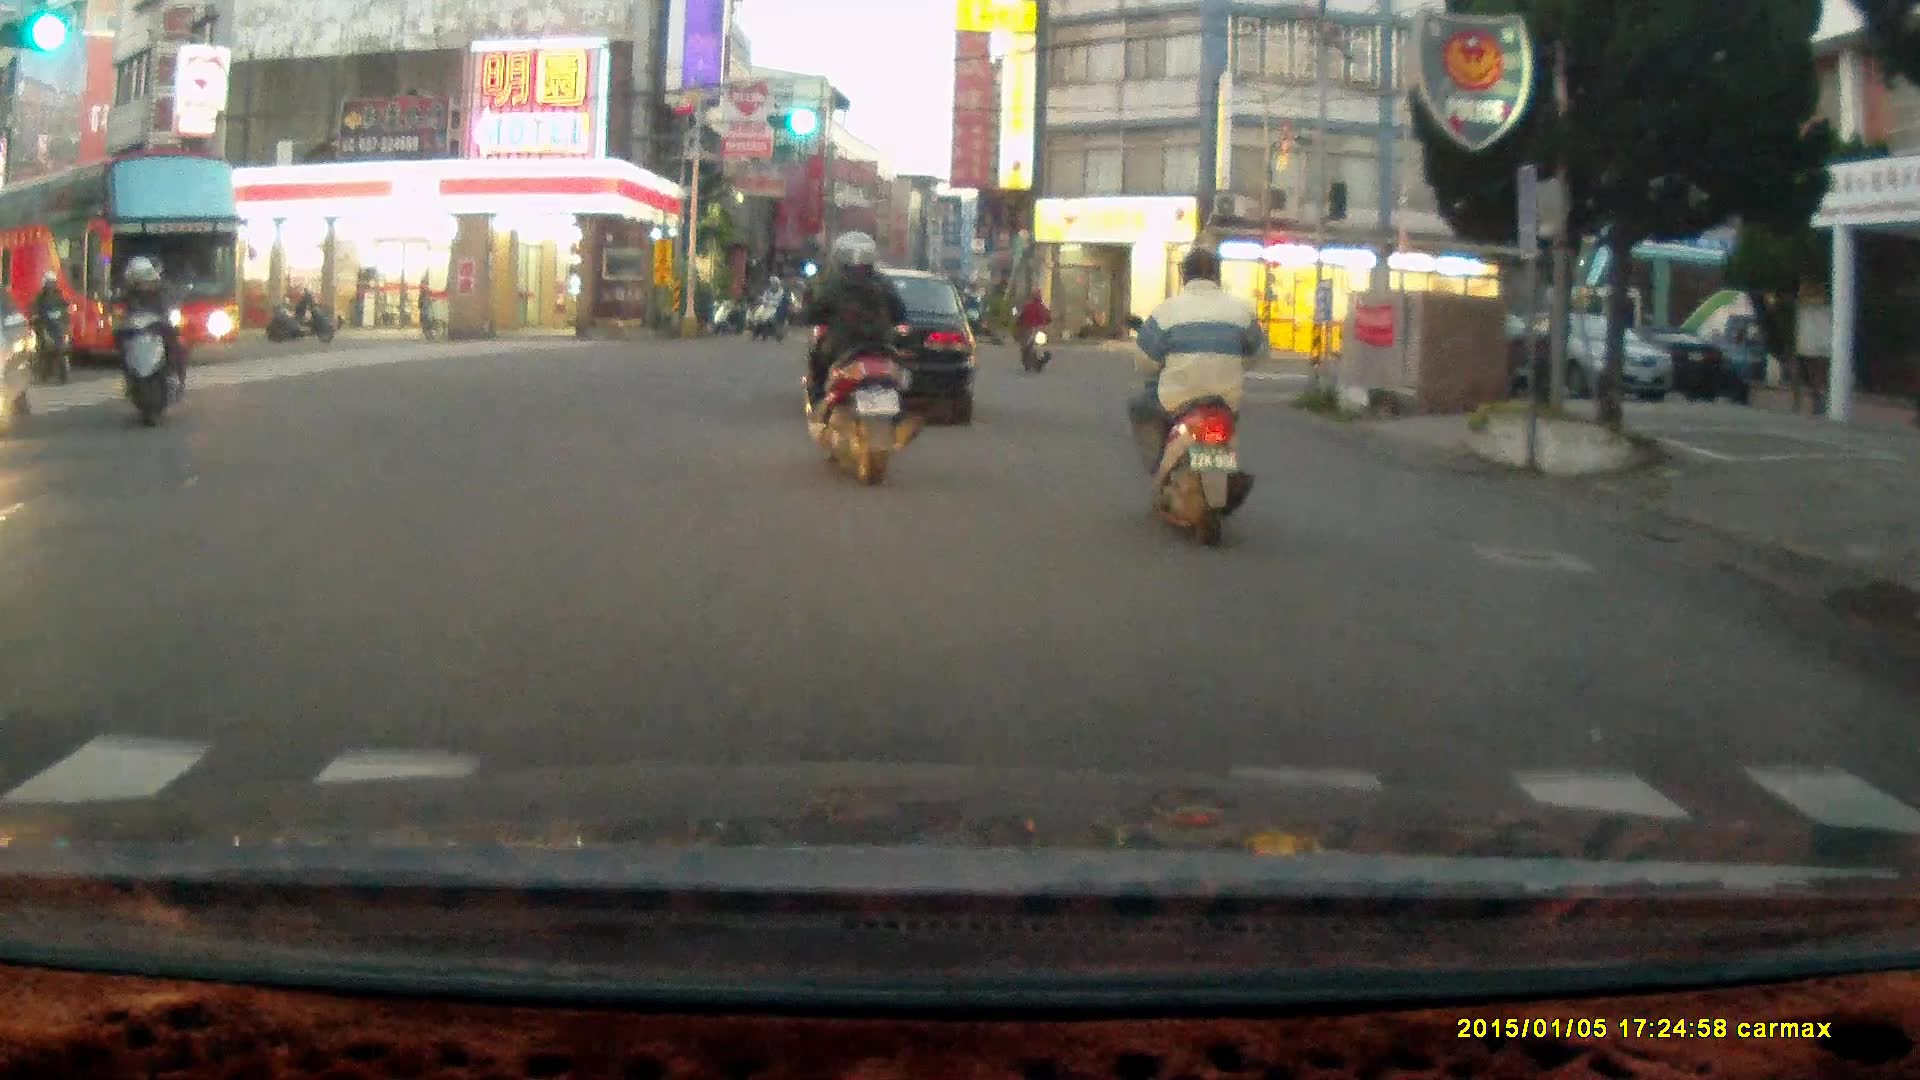rider: (1124, 252, 1260, 554), (791, 227, 927, 492), (107, 255, 183, 432), (26, 273, 74, 389), (1010, 292, 1052, 376), (749, 274, 790, 340)
vehicle: (1, 158, 240, 372), (1468, 311, 1678, 405)
